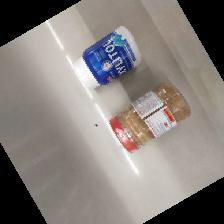Hao_hao: (108, 80, 191, 153)
Xylitol_blue: (72, 26, 142, 89)
